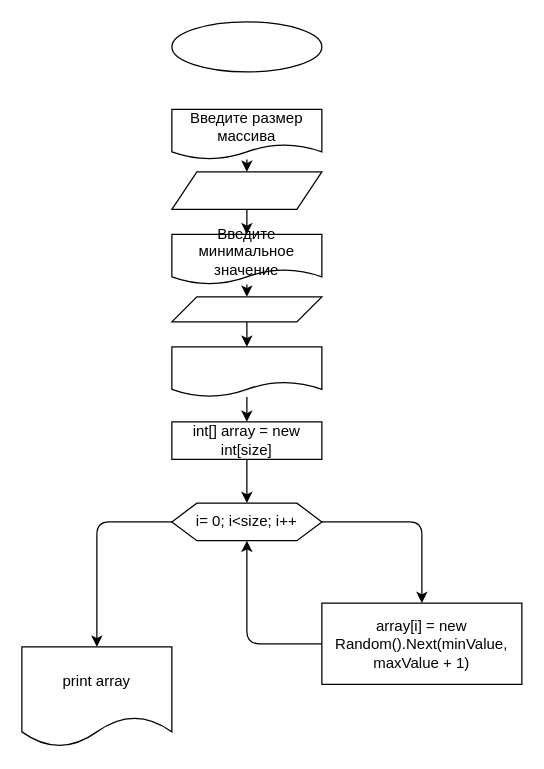
This 544x769 diagram has some shape labels left out. Each missing label, with the centre of its shape:
"min" belongs at point (246, 309).
"size" belongs at point (246, 190).
"Введите максимальное значение" belongs at point (246, 371).
